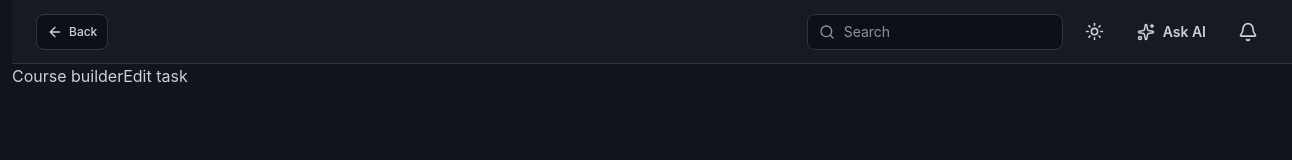
Test: renders a global back button on the topbar that navigates back
Expected: the text "Course builder" is shown, [12, 66, 123, 86]
Click the link "Edit task" at [155, 76], box [123, 66, 188, 86]
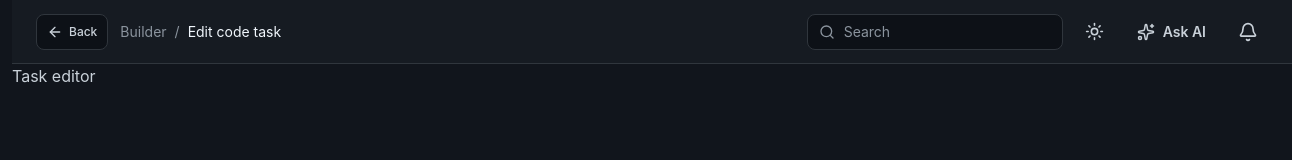
Expected: the text "Task editor" is shown, [12, 66, 96, 86]
Click the button with aria-label "Go back" at [72, 32], box [36, 14, 108, 50]
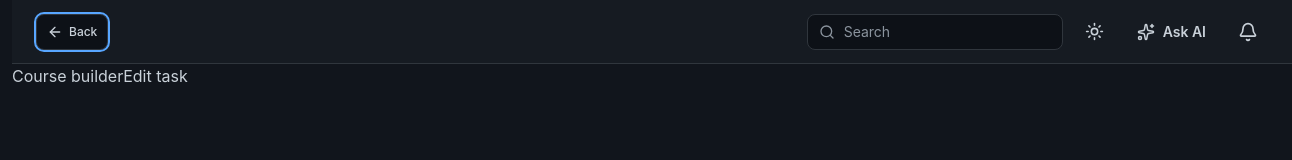
Expected: the text "Course builder" is shown, [12, 66, 123, 86]
